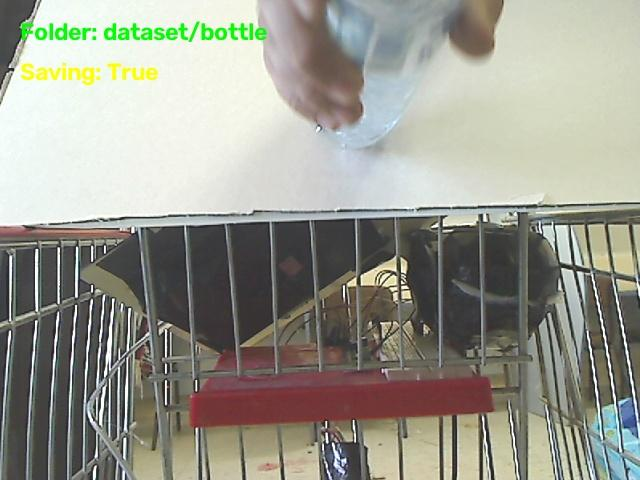can: (313, 121, 326, 134)
